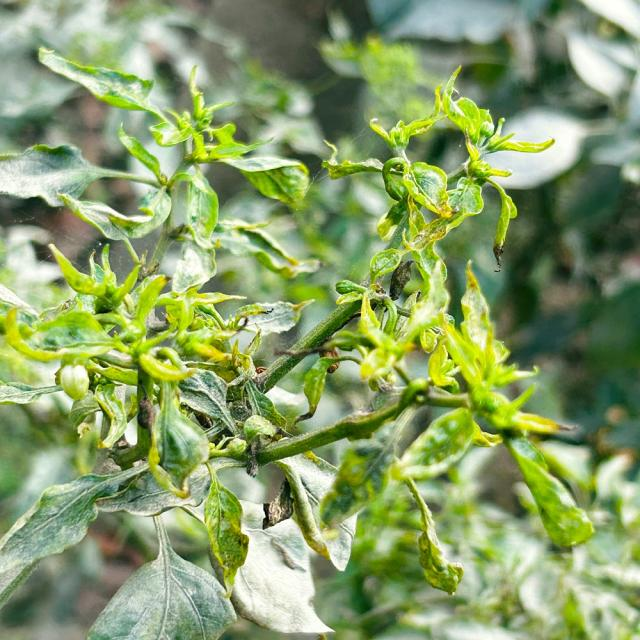Chilli_Leaf_Curl: (1, 43, 593, 638)
